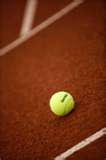tennis ball: (50, 90, 75, 117)
